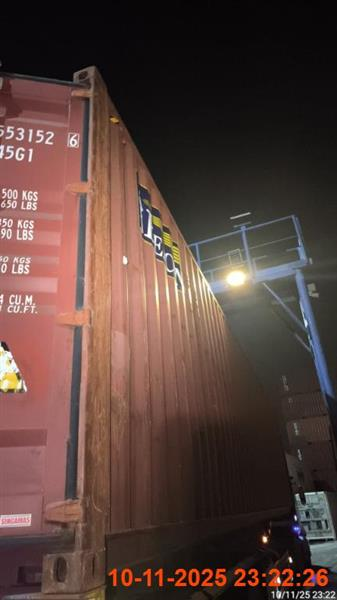broken: (1, 66, 314, 599)
